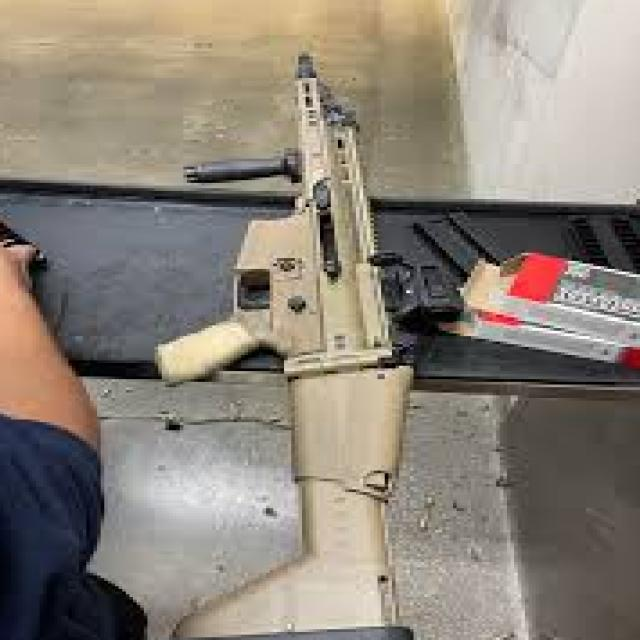Gun: (151, 54, 449, 640)
